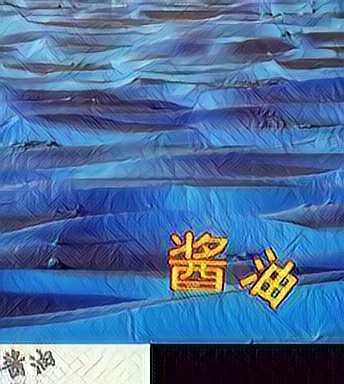BDB4: (166, 229, 228, 293)
D3CD: (238, 245, 300, 309)
